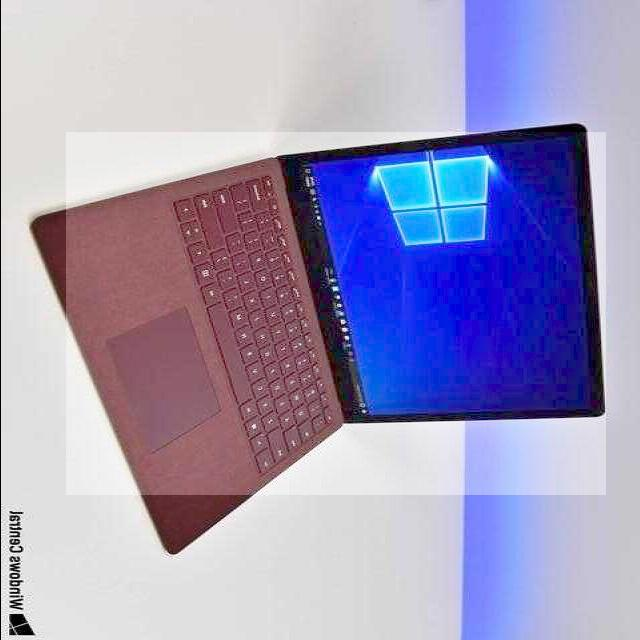-keyboard-: (66, 132, 606, 495)
